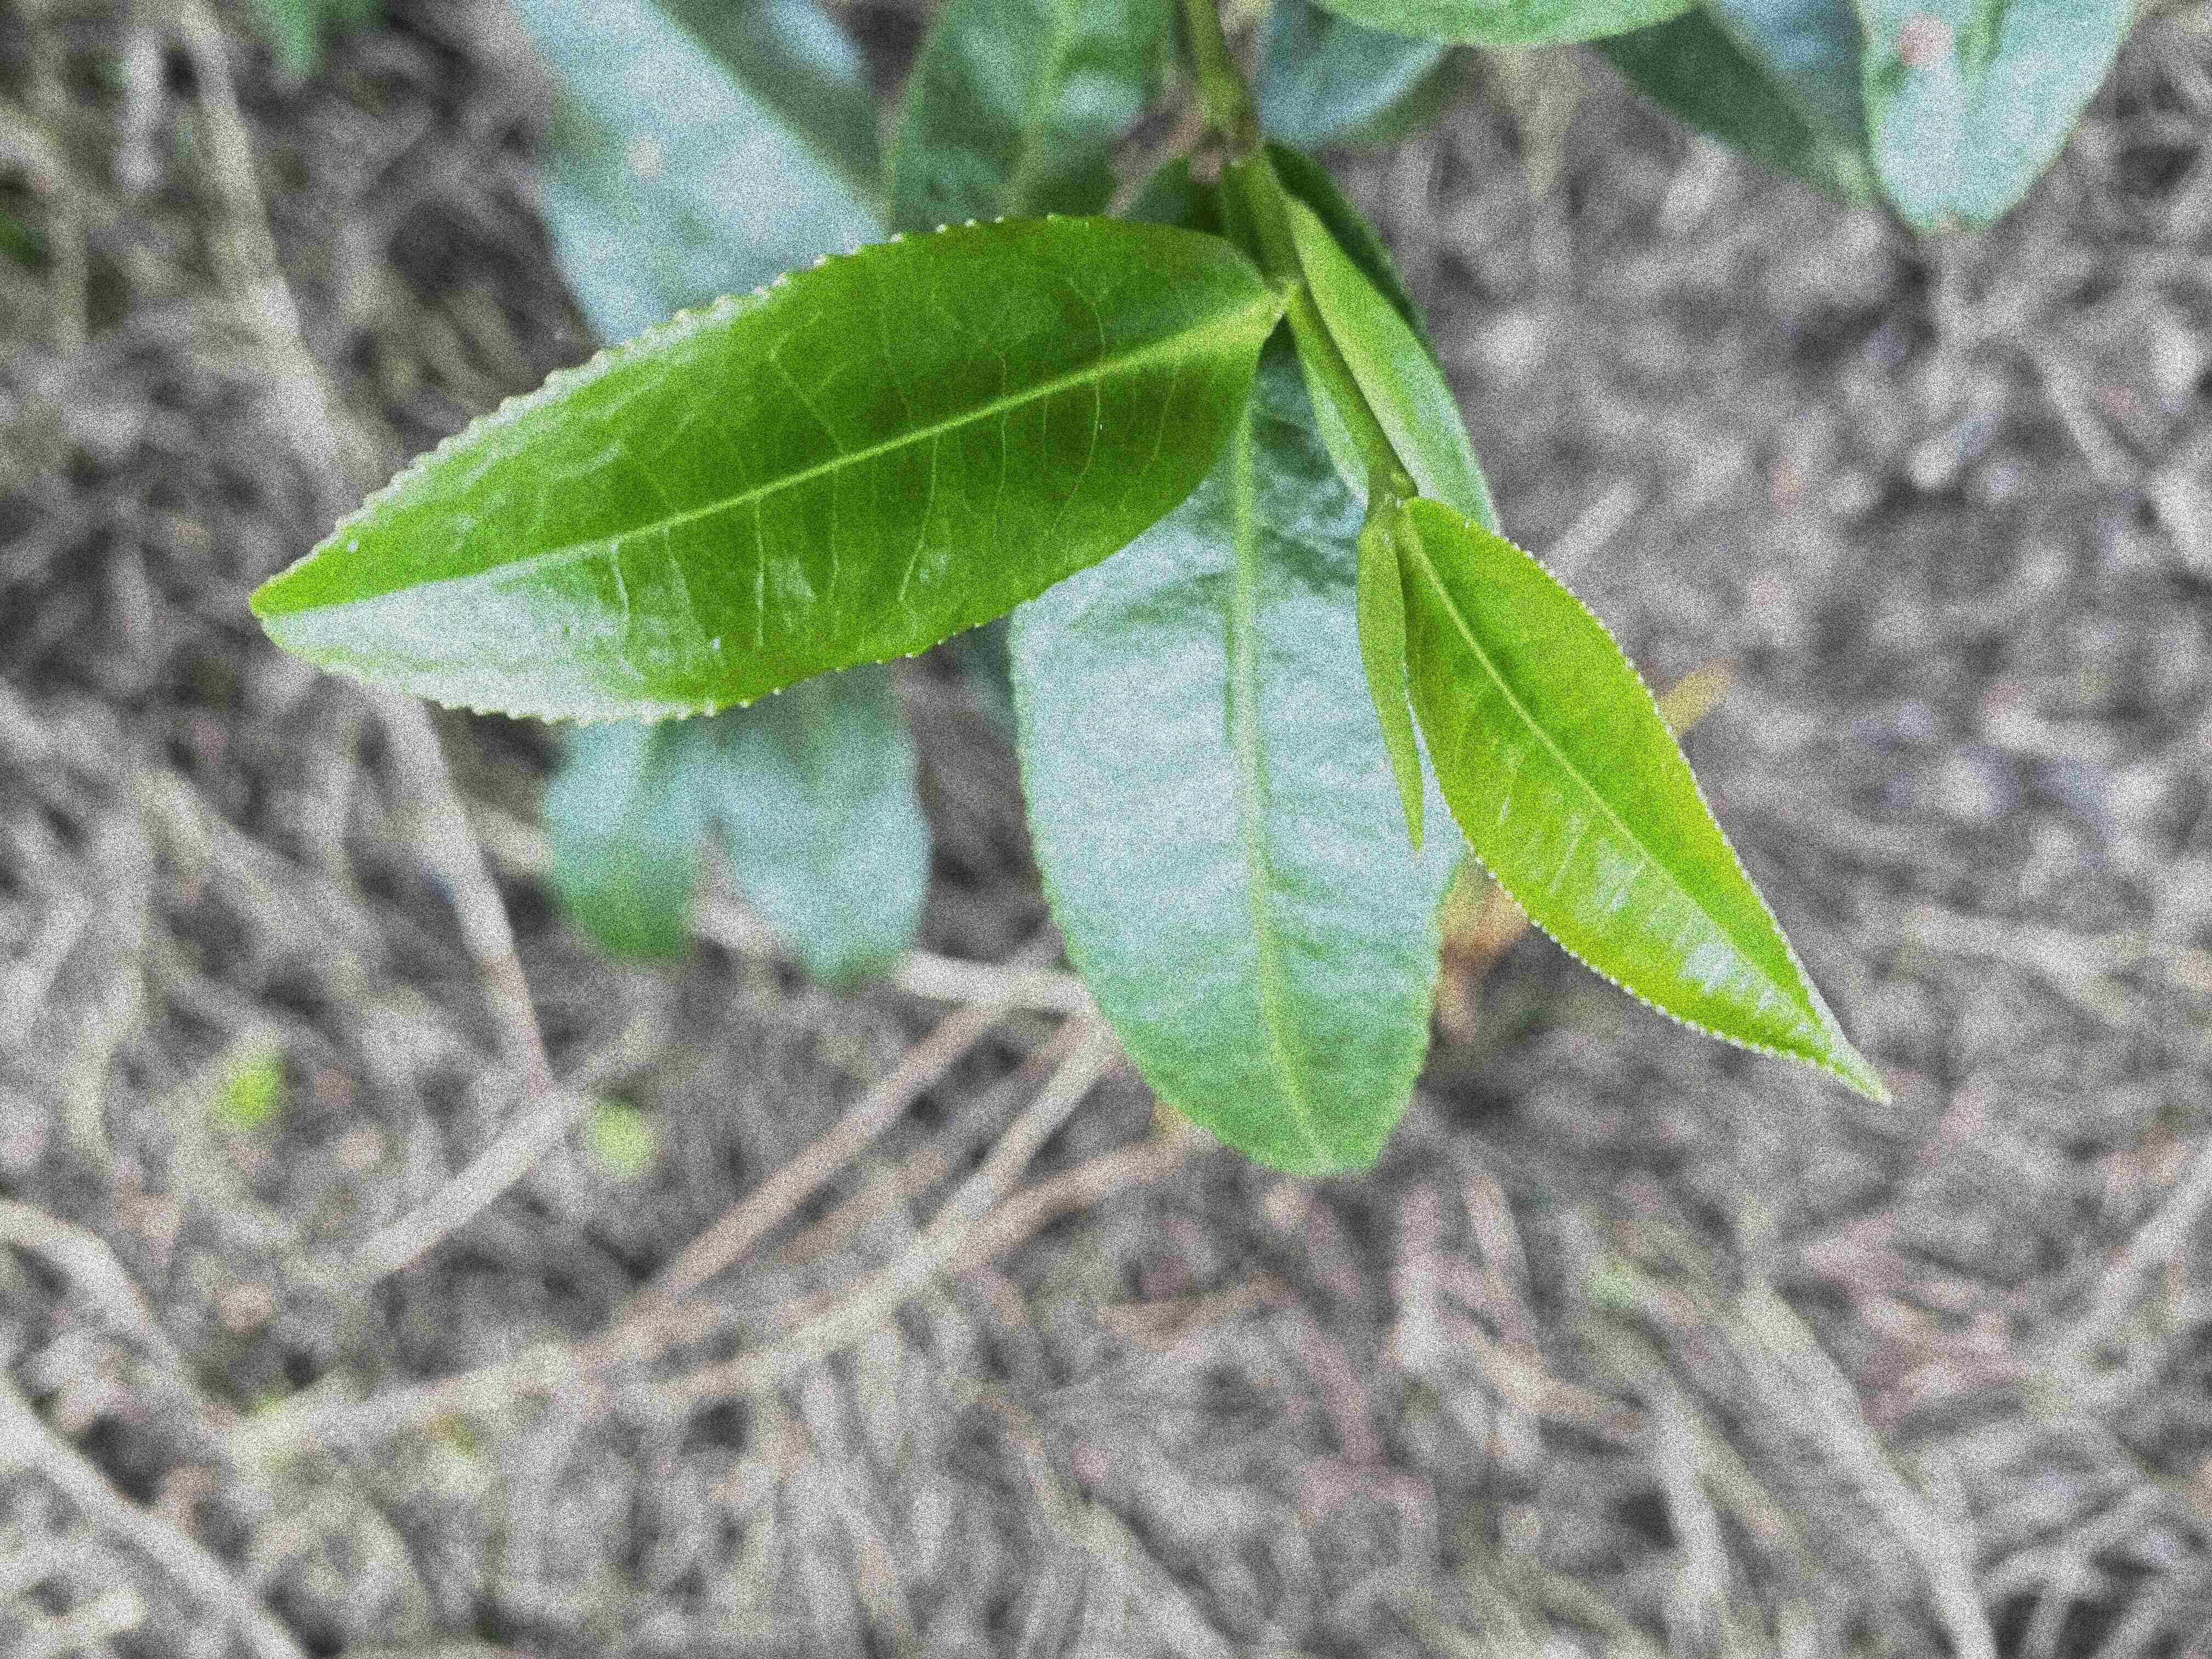healthy: (246, 211, 1275, 730), (1399, 495, 1902, 1101)
